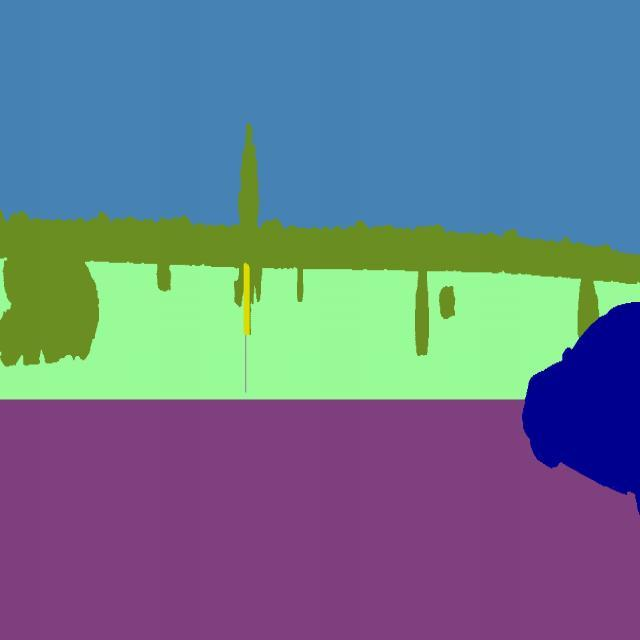safe: (516, 295, 640, 525)
